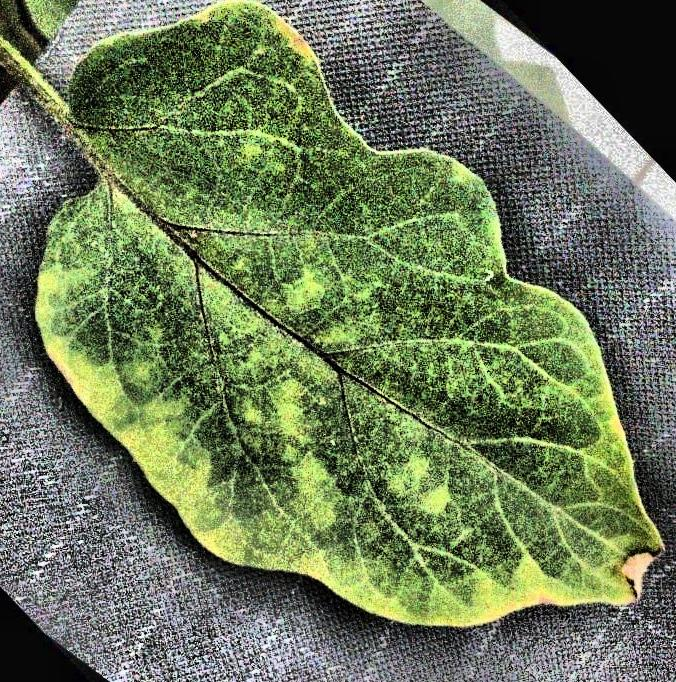Non-critical Stress: (1, 0, 676, 682)
